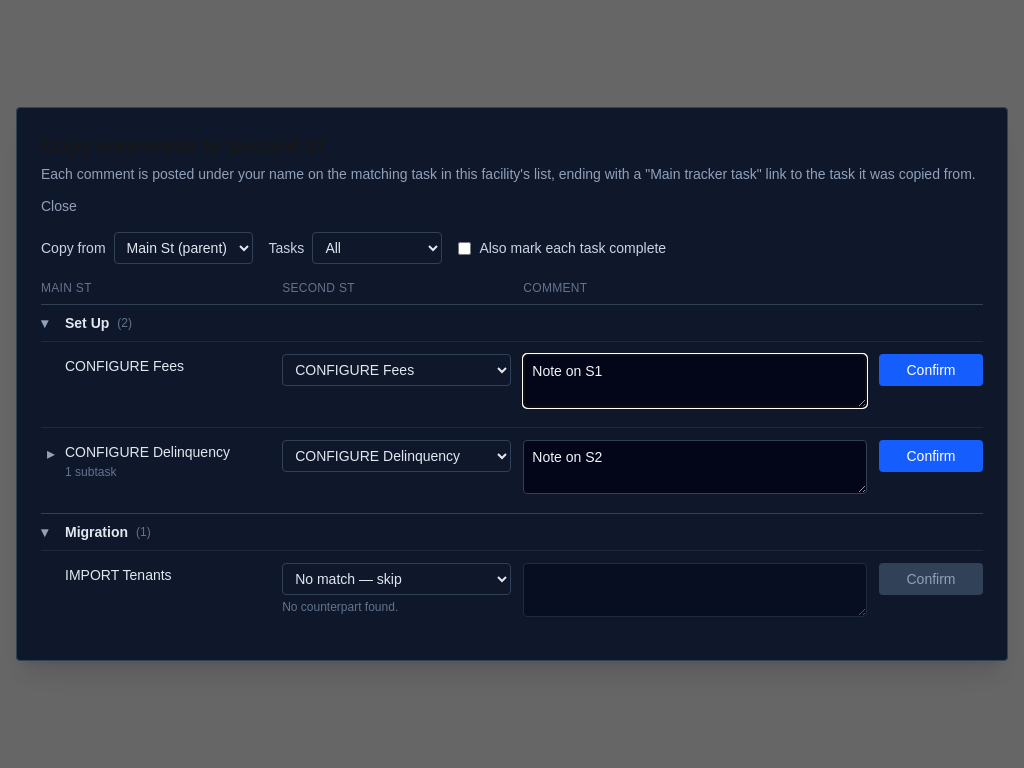
CopyCommentsDialog › posts the edited comment, not the prefill, and marks the row copied
The width and height of the screenshot is (1024, 768).
Replace the text in the text box named "Comment for CONFIGURE Fees" with "Fees done, see list." at {"x": 695, "y": 381}, box [523, 354, 867, 408]
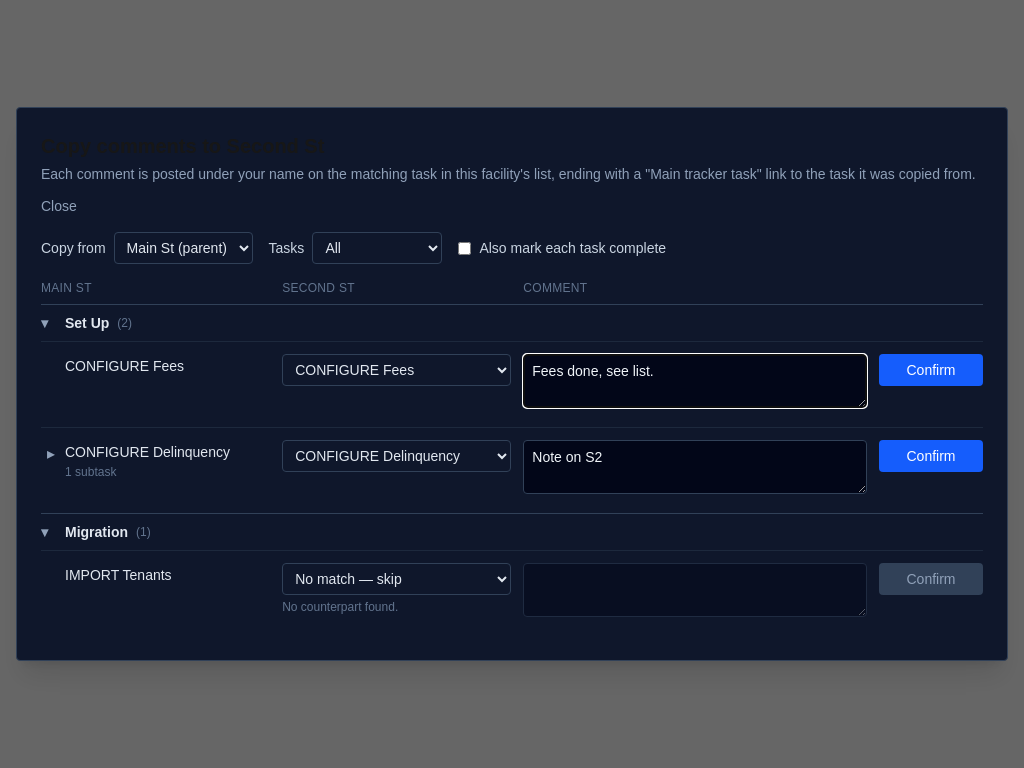
Click the button with aria-label "Confirm CONFIGURE Fees" at {"x": 931, "y": 370}, box [879, 354, 983, 386]
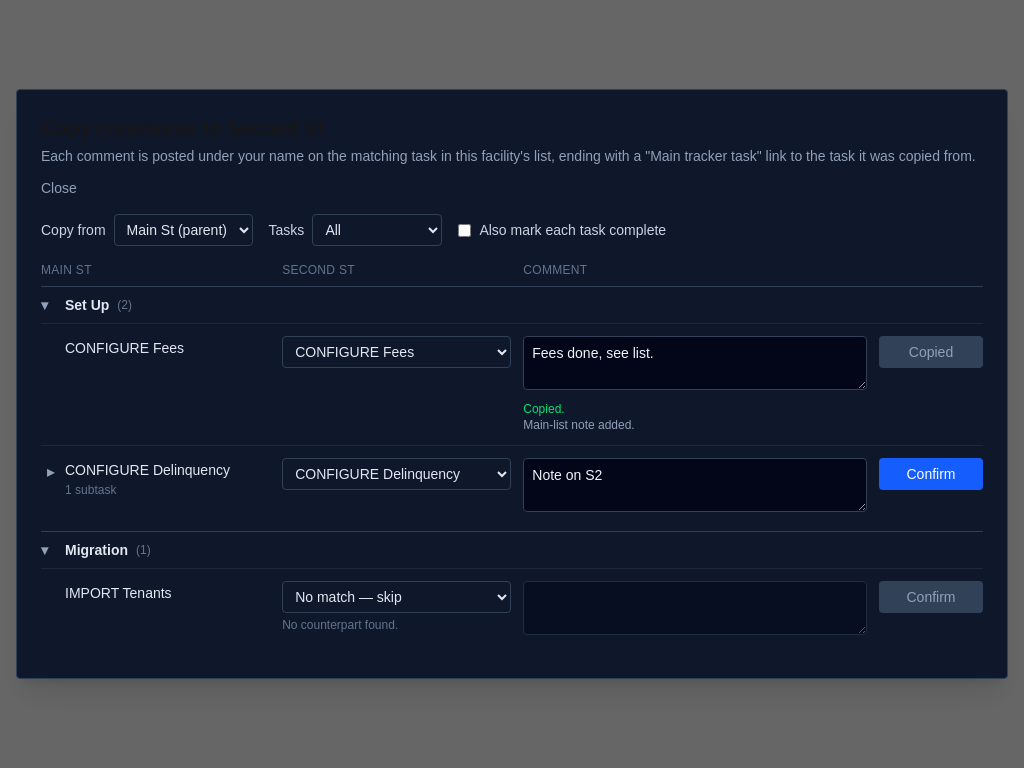
Expected: the text "Copied." is shown, [523, 402, 565, 416]
Expected: the text "Main-list note added." is shown, [523, 418, 635, 432]
